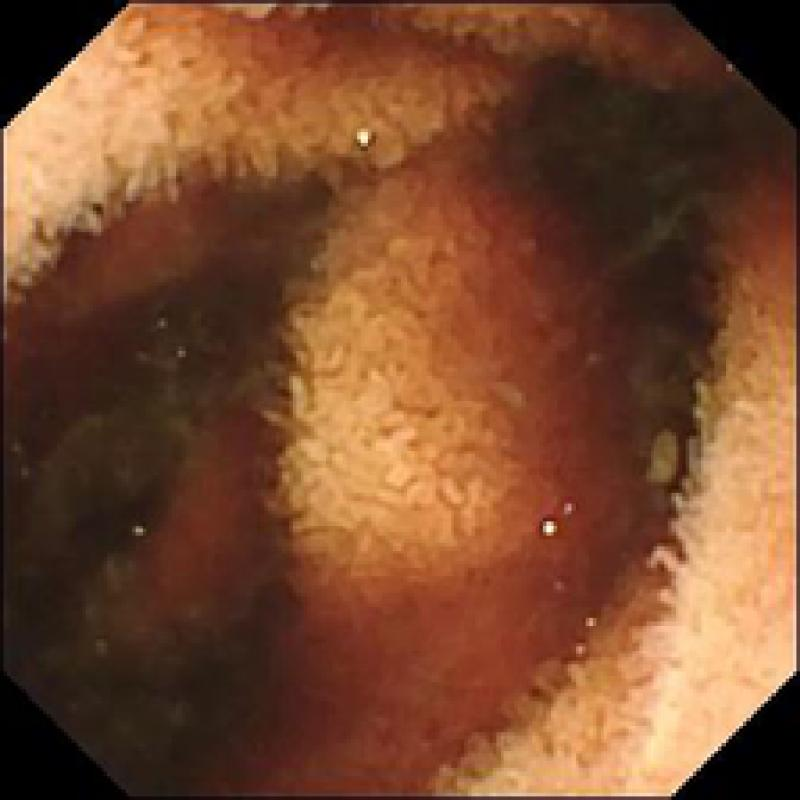bleeding: (143, 428, 261, 610)
